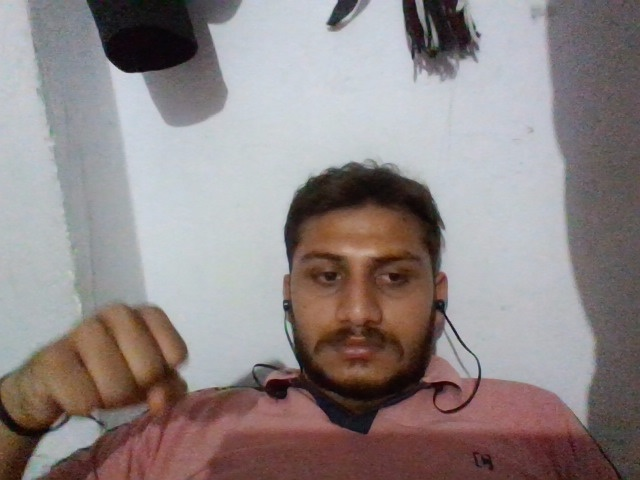Yes: (12, 285, 231, 424)
